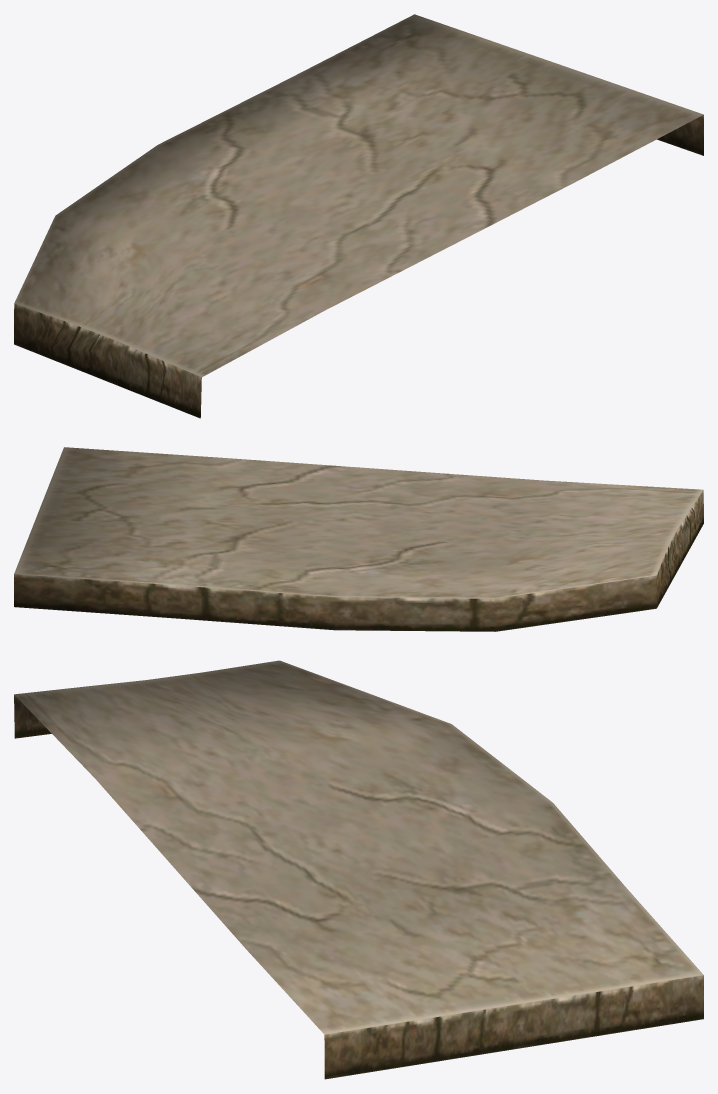
The model's file is HTOWN01_BAGROW2PORCH.fbx.
3 renders of one model, top to bottom at view 1: azimuth 30°, elevation 25°; view 2: azimuth 150°, elevation 25°; view 3: azimuth 270°, elevation 25°, orthographic. The views are drawn at different scales.
Visible parts, largest first — view 1: HTOWN01_BAGROW2PORCH; view 2: HTOWN01_BAGROW2PORCH; view 3: HTOWN01_BAGROW2PORCH.
Part boxes in pixels (left/top/right/bottom): HTOWN01_BAGROW2PORCH: left=14, top=14, right=703, bottom=418; HTOWN01_BAGROW2PORCH: left=14, top=447, right=703, bottom=631; HTOWN01_BAGROW2PORCH: left=14, top=660, right=703, bottom=1079.
Bounding box in the file's own units: 56633 × 3156 × 44066.
Materials: 2 (2 with a texture image).
